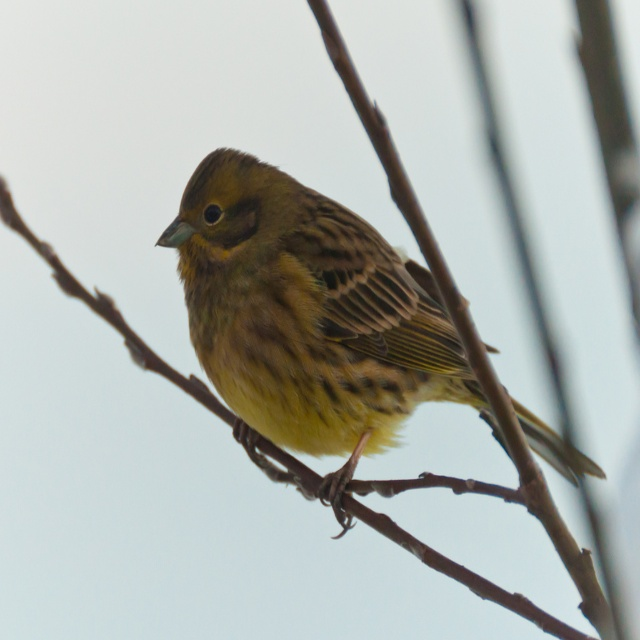Sparrow: (155, 144, 607, 539)
